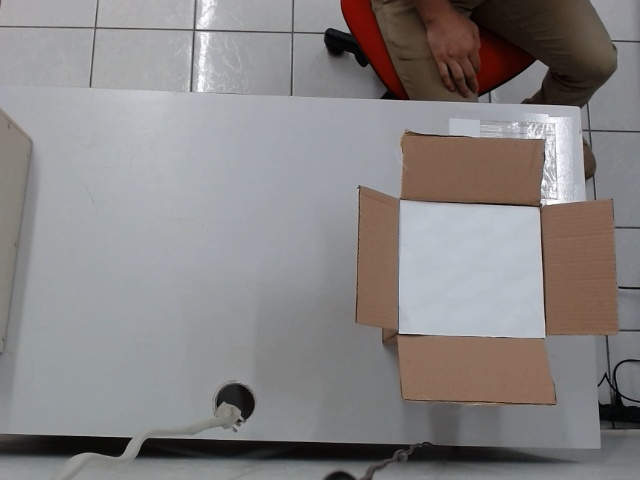divisor: (395, 199, 550, 340)
